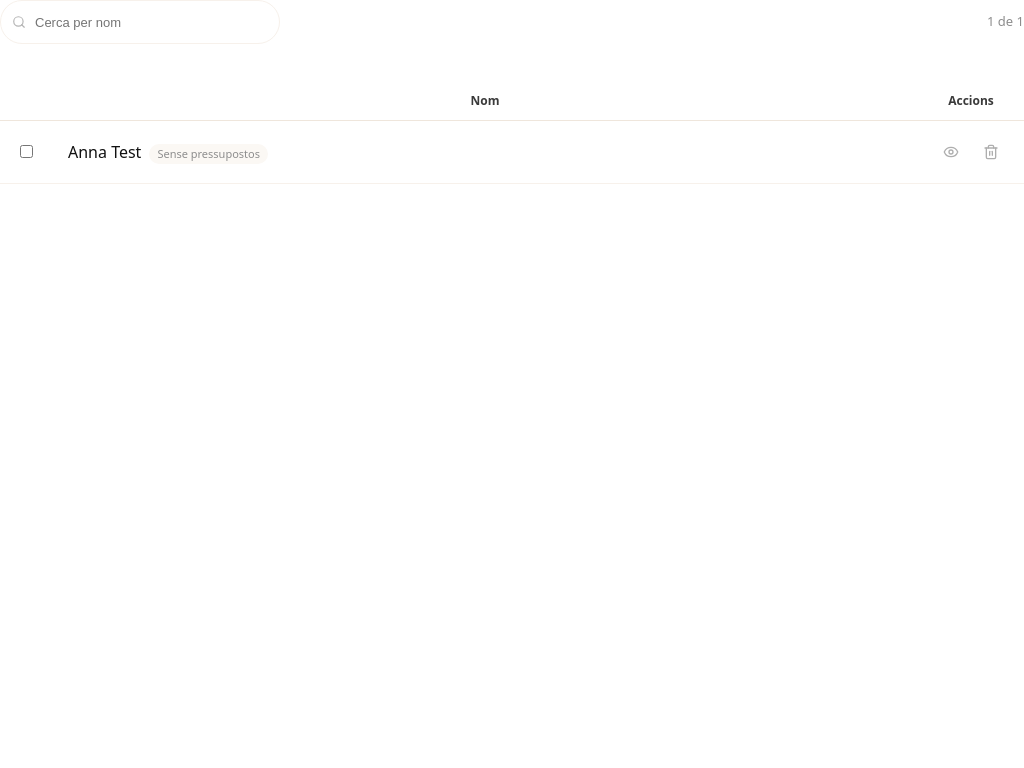
Scenario: ContactsView › shows delete error from deleteContact in an alert
The width and height of the screenshot is (1024, 768).
Click the button named "Eliminar contacte": (991, 152) [974, 135, 1008, 169]
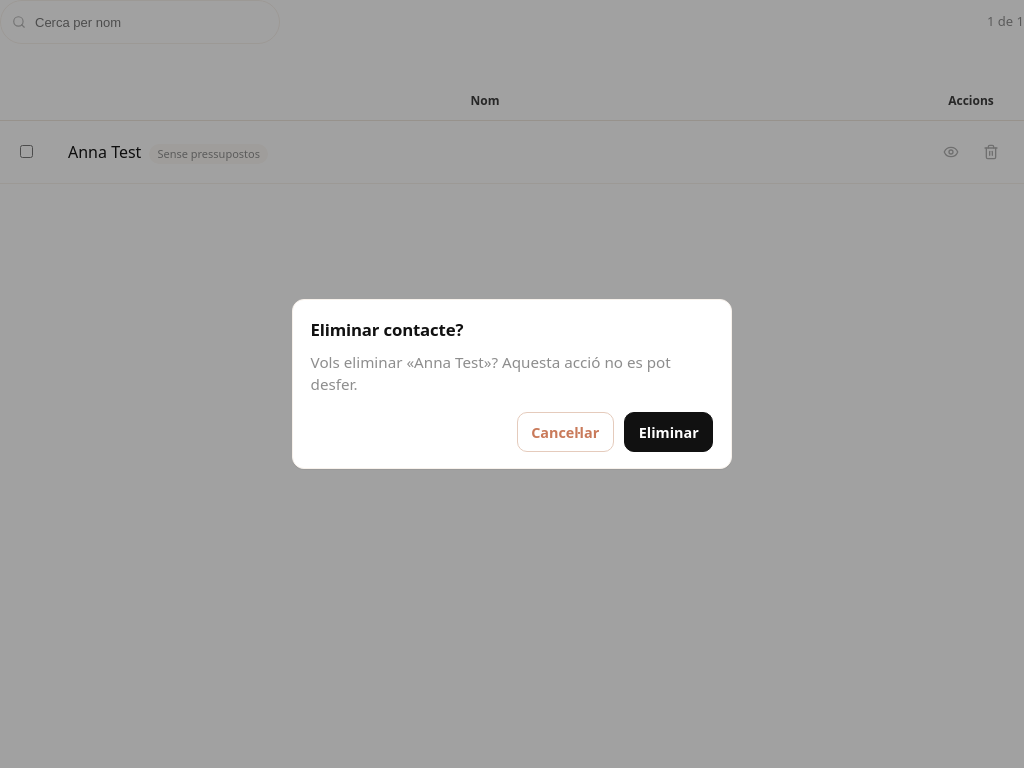
Click the button "Eliminar": (669, 432) [624, 412, 713, 452]
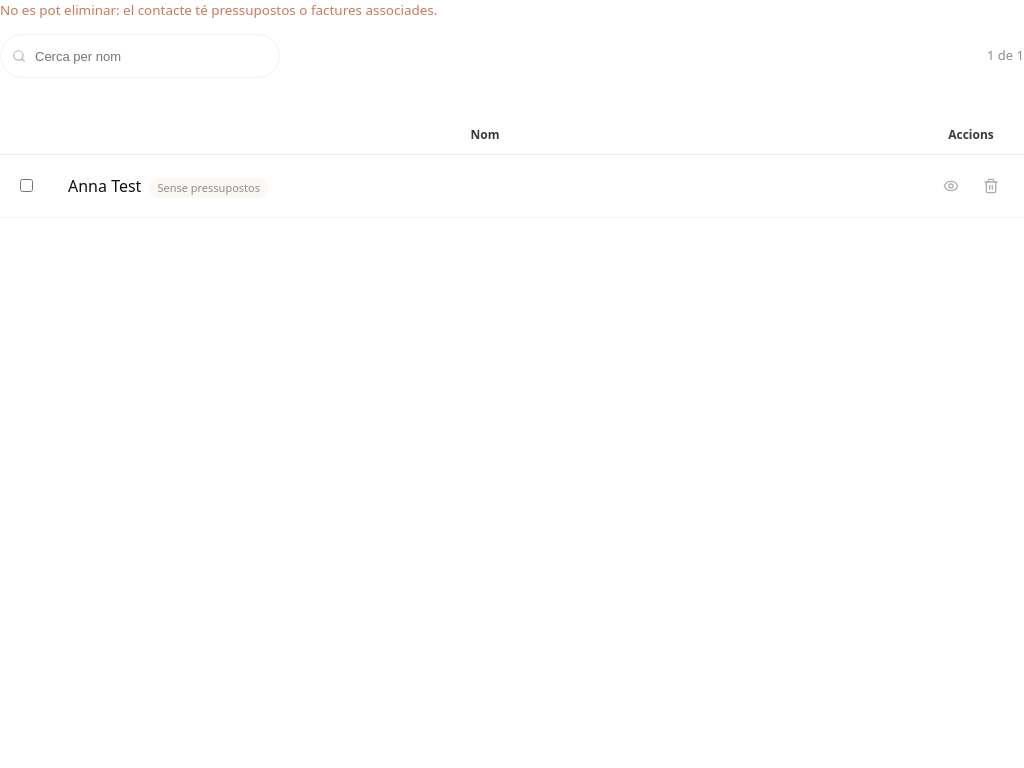
Expected: the message reads "No es pot eliminar: el contacte té pressupostos o factures associades.", [0, 1, 437, 19]
